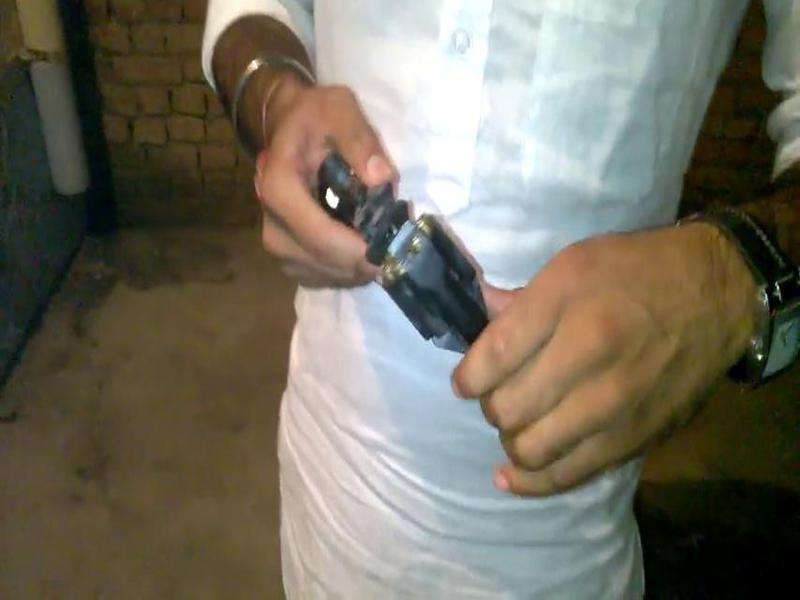Revolver: (308, 140, 567, 414)
